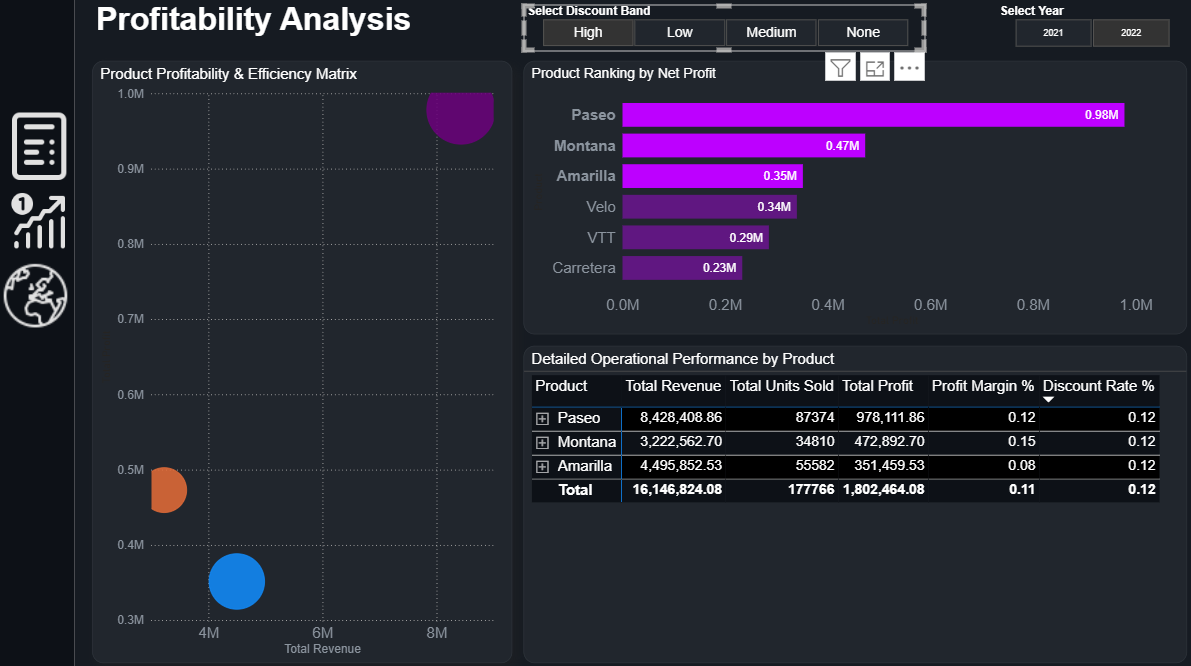

This screenshot's page, from the dashboard's own definition file:
{"tool":"powerbi","page":{"name":"Product & Profitability Analysis","canvas":[1600,900],"ordinal":1},"visuals":[{"type":"shape","box":[0,0,105,1040],"z":0},{"type":"textbox","box":[127.5,0,560,72.5],"z":1000},{"type":"slicer","title":"Select Year","fields":{"Values":["Source.Date.Variation.Date Hierarchy.Year"]},"box":[1333.3,10,255,63],"z":2000},{"type":"image","box":[0,253.3,118.3,93.3],"z":3000},{"type":"image","box":[0,145,115,108.3],"z":4000},{"type":"image","box":[6.7,346.7,91.7,103.3],"z":5000},{"type":"slicer","title":"Select Discount Band","fields":{"Values":["Source.Discount Band"]},"box":[703.6,9.3,537.1,62.3],"z":6000},{"type":"scatterChart","title":"Product Profitability & Efficiency Matrix","fields":{"X":["Key Measures.Total Revenue"],"Y":["Key Measures.Total Profit"],"Category":["Source.Product"],"Size":["Sum(Source.Units Sold)"]},"box":[128.3,85,560,803.3],"z":7000},{"type":"clusteredBarChart","title":"Product Ranking by Net Profit","fields":{"Category":["Source.Product"],"Y":["Key Measures.Total Profit"]},"box":[703.3,85,885,365],"z":8000},{"type":"pivotTable","title":"Detailed Operational Performance by Product","fields":{"Rows":["Source.Product","Source.Color"],"Values":["Key Measures.Total Revenue","Key Measures.Total Units Sold","Key Measures.Total Profit","Key Measures.Profit Margin %","Key Measures.Discount Rate %"]},"box":[703.3,465,885,423.3],"z":9000}]}

Visuals, with their boxes in screenshot pixels (x1, y1, x2, y2), scaled from the page's 1600x900 canvas onto the 1191x666 screenshot:
shape: crop(0, 0, 78, 665)
textbox: crop(95, 0, 512, 54)
"Select Year" slicer: crop(992, 7, 1182, 54)
image: crop(0, 187, 88, 256)
image: crop(0, 107, 86, 187)
image: crop(5, 257, 73, 333)
"Select Discount Band" slicer: crop(524, 7, 924, 53)
"Product Profitability & Efficiency Matrix" scatterChart: crop(96, 63, 512, 657)
"Product Ranking by Net Profit" clusteredBarChart: crop(524, 63, 1182, 333)
"Detailed Operational Performance by Product" pivotTable: crop(524, 344, 1182, 657)
